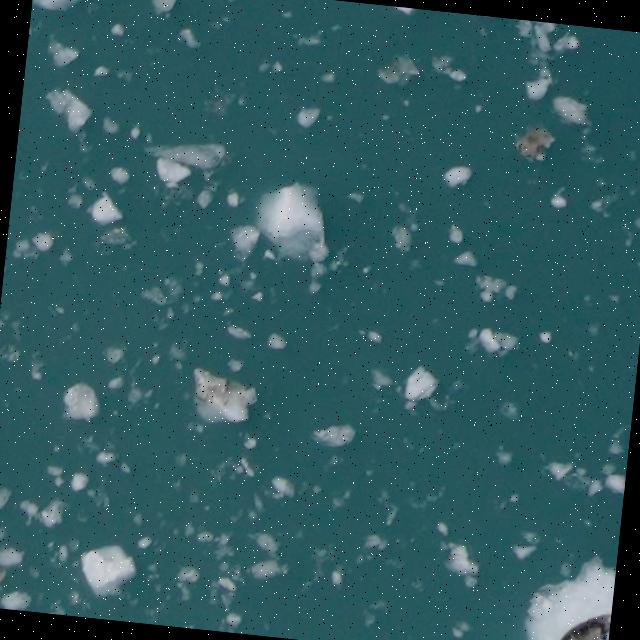seal: (558, 613, 610, 640)
